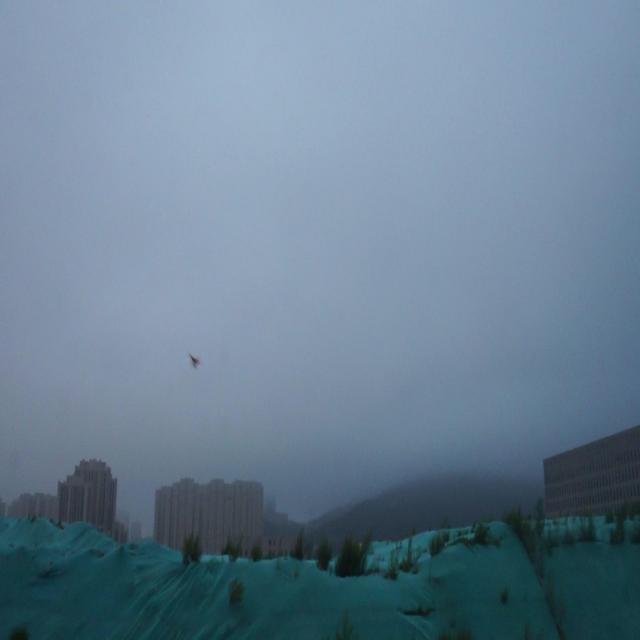UAV: (189, 353, 202, 368)
